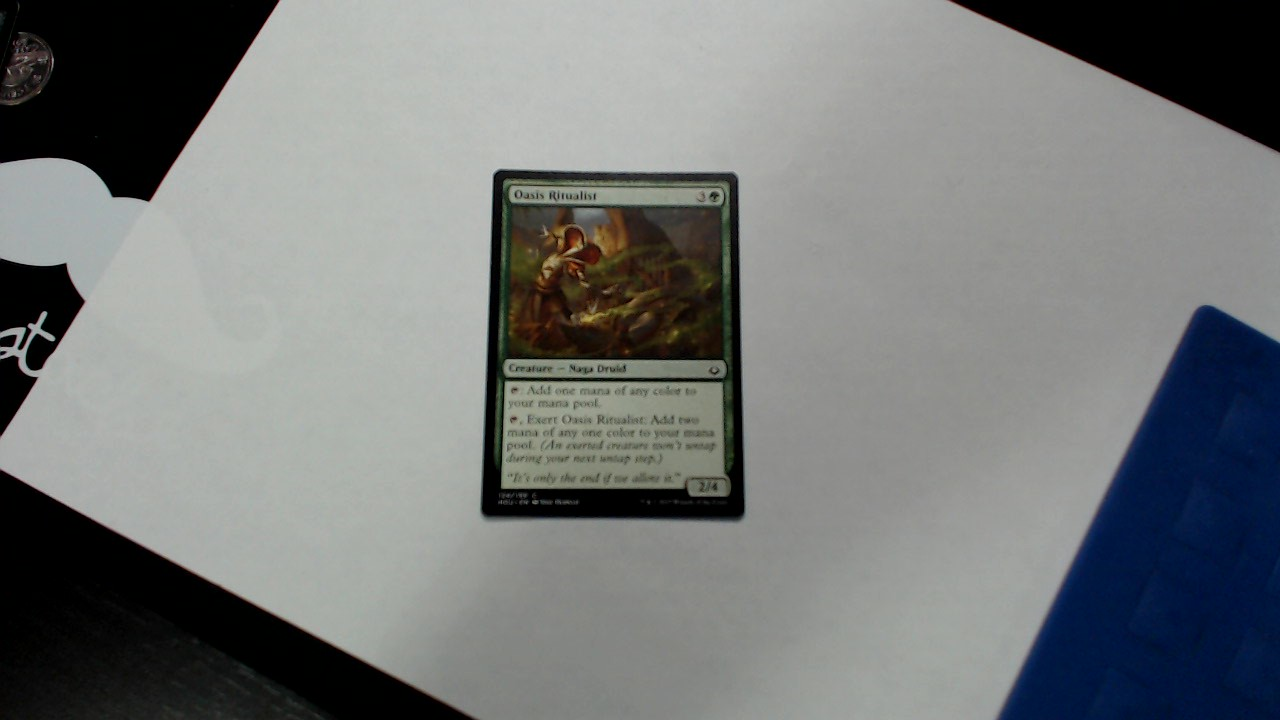MTG Card: (472, 157, 758, 532)
